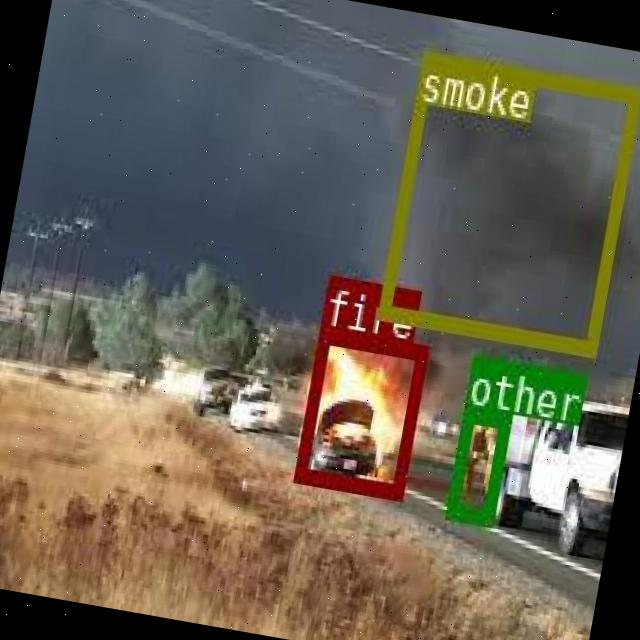fire: (294, 326, 426, 497)
smoke: (375, 48, 640, 353)
